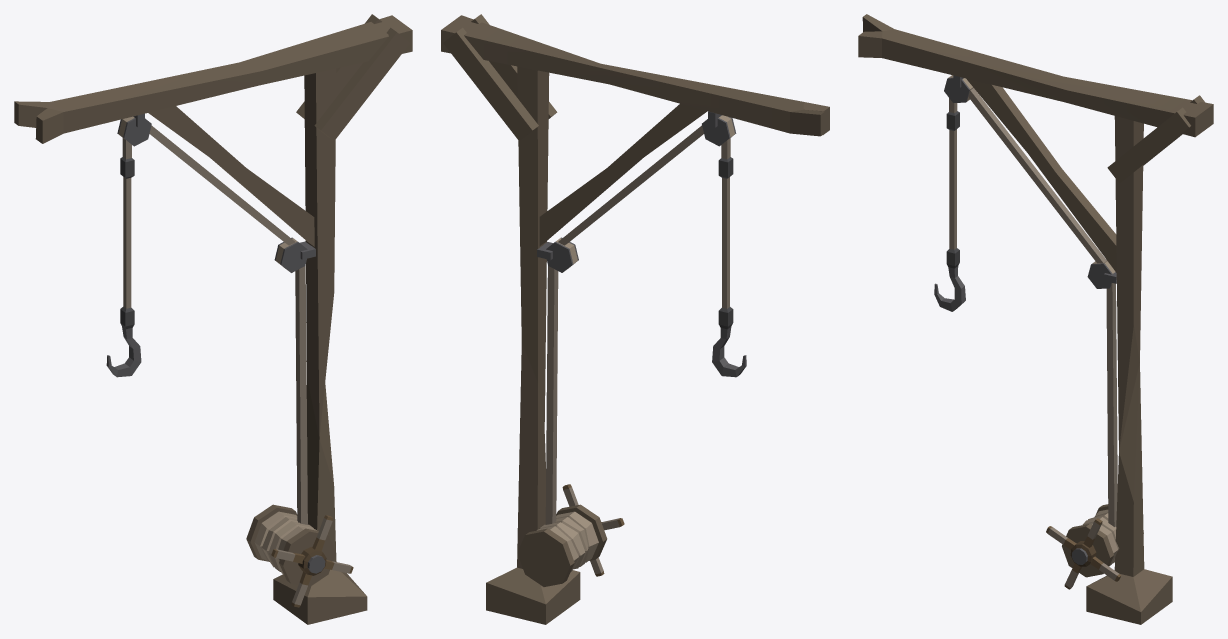
Rendered from SM_Prop_Crane_03.glb.
3 renders of one model, left to right at view 1: azimuth 30°, elevation 25°; view 2: azimuth 150°, elevation 25°; view 3: azimuth 330°, elevation 25°, orthographic. The views are drawn at different scales.
Visible parts, largest first — view 1: SM_Prop_Crane_03; view 2: SM_Prop_Crane_03; view 3: SM_Prop_Crane_03.
Boxes of the visible parts, <box> form: SM_Prop_Crane_03: <box>14,14,412,624</box>; SM_Prop_Crane_03: <box>441,14,829,624</box>; SM_Prop_Crane_03: <box>858,14,1213,624</box>.
Size of the model in its own units: 0.0351 by 0.0504 by 0.00713.
1 material, 1 textured.
